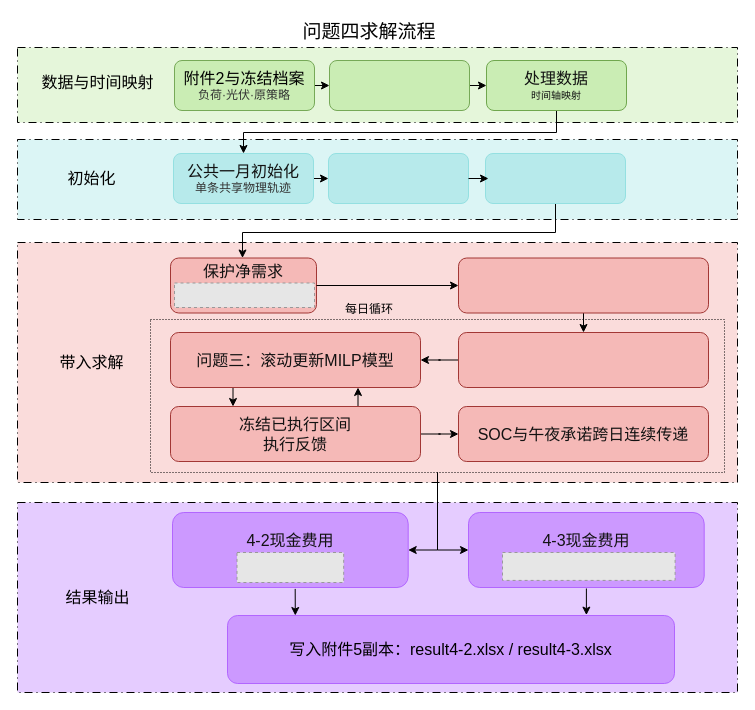
Image size: 755x710. Some labels were removed from this diagram. Grey dashed boxes stand in for pictures. The centre of each missing label's shape, as x and y in pixels:
"正式评价至12月31日 48096个自然日区间" belongs at (x=555, y=178).
"正式起点 2025-02-01 SOC = 6097.354410 kWh" belongs at (x=398, y=178).
"问题一：统一储能MILP模型" belongs at (x=583, y=285).
"问题三：0:00原始MILP模型" belongs at (x=583, y=360).
"附件4波动电价 每日144段价格已知" belongs at (x=399, y=85).
